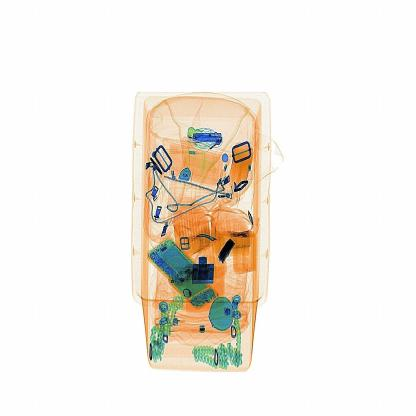scissors: (209, 233, 240, 268)
